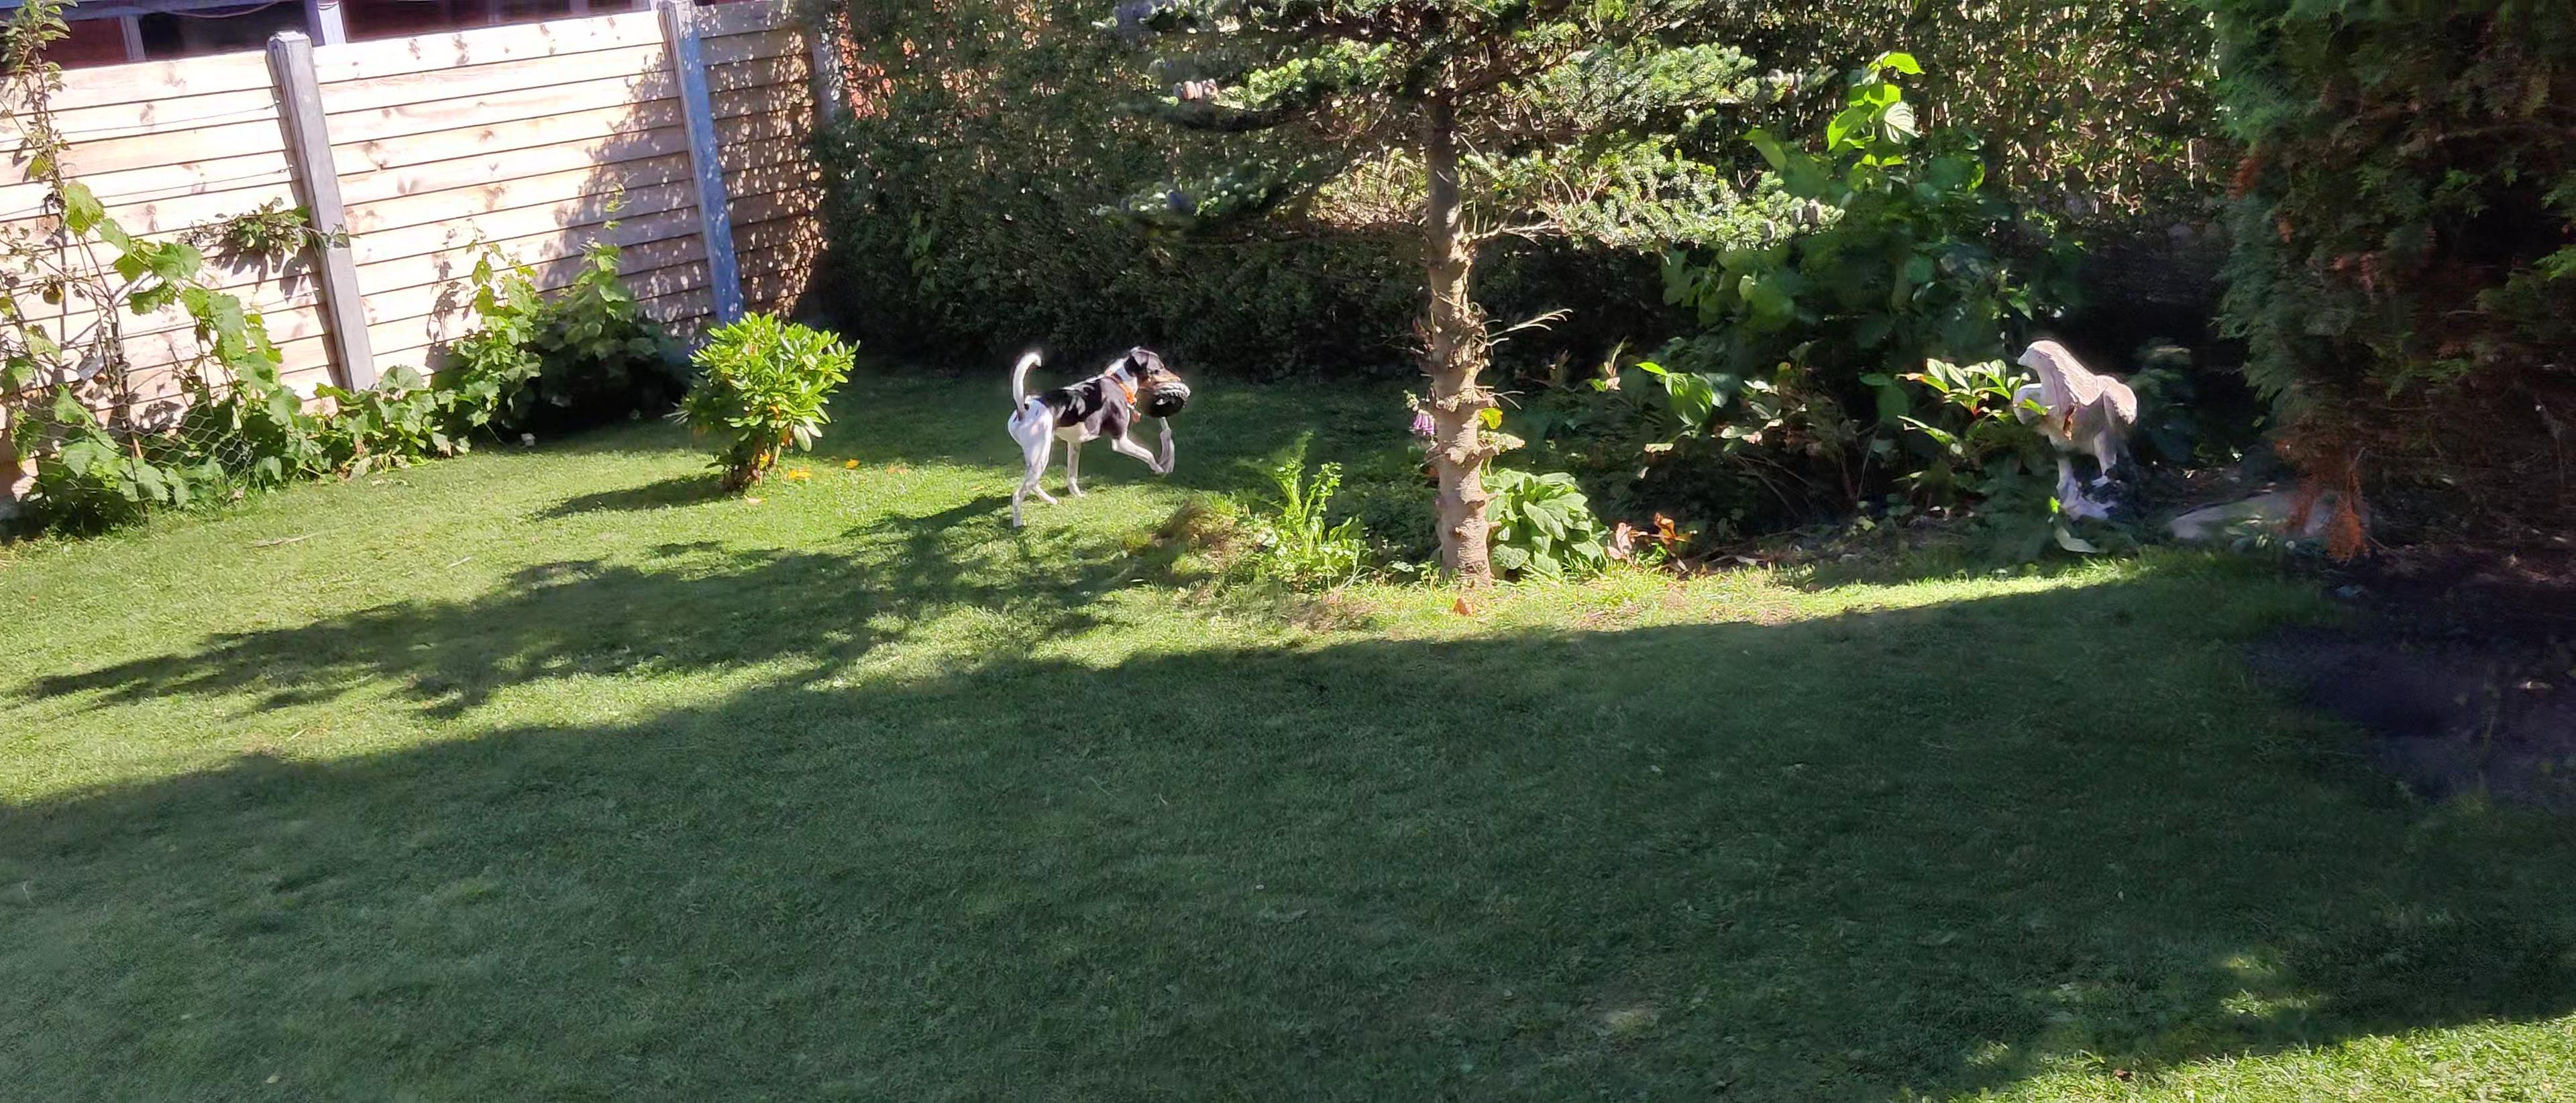Dog: (1005, 342, 1181, 529)
